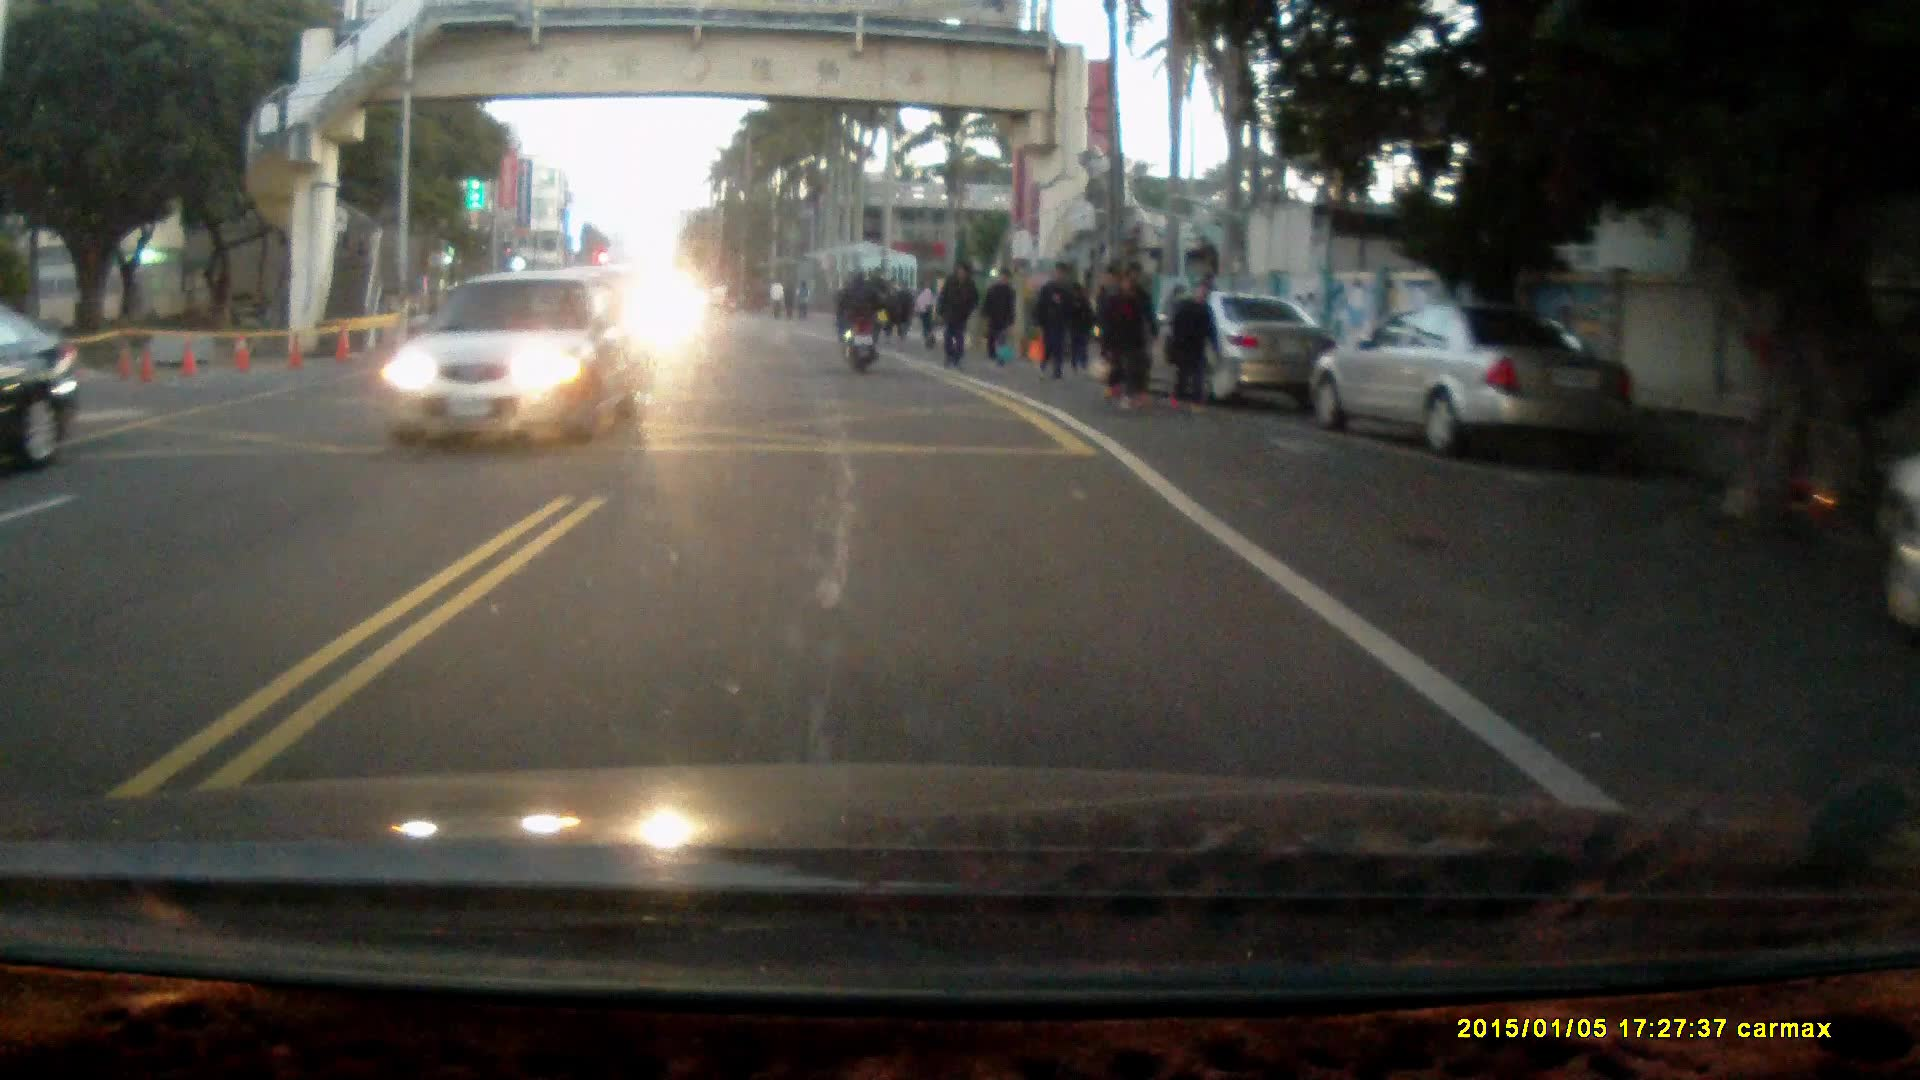pedestrian: (1164, 278, 1219, 417), (1102, 270, 1149, 413), (1032, 260, 1075, 384), (934, 260, 979, 371), (978, 267, 1019, 373)
rider: (834, 267, 886, 375)
vehicle: (379, 268, 653, 449), (1318, 302, 1639, 454), (1112, 294, 1343, 405), (1, 296, 78, 465)
